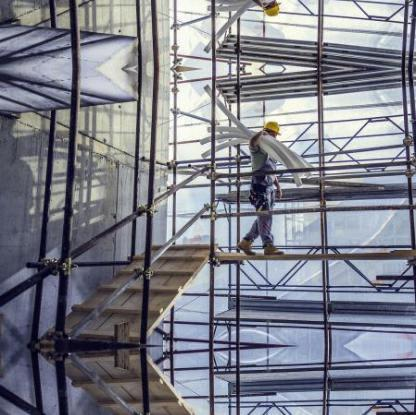helmet: (264, 121, 281, 134)
